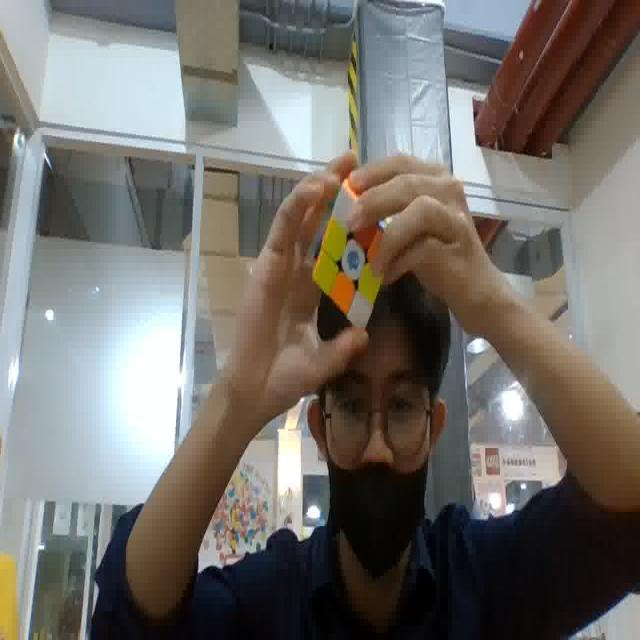Rub: (310, 178, 404, 332)
